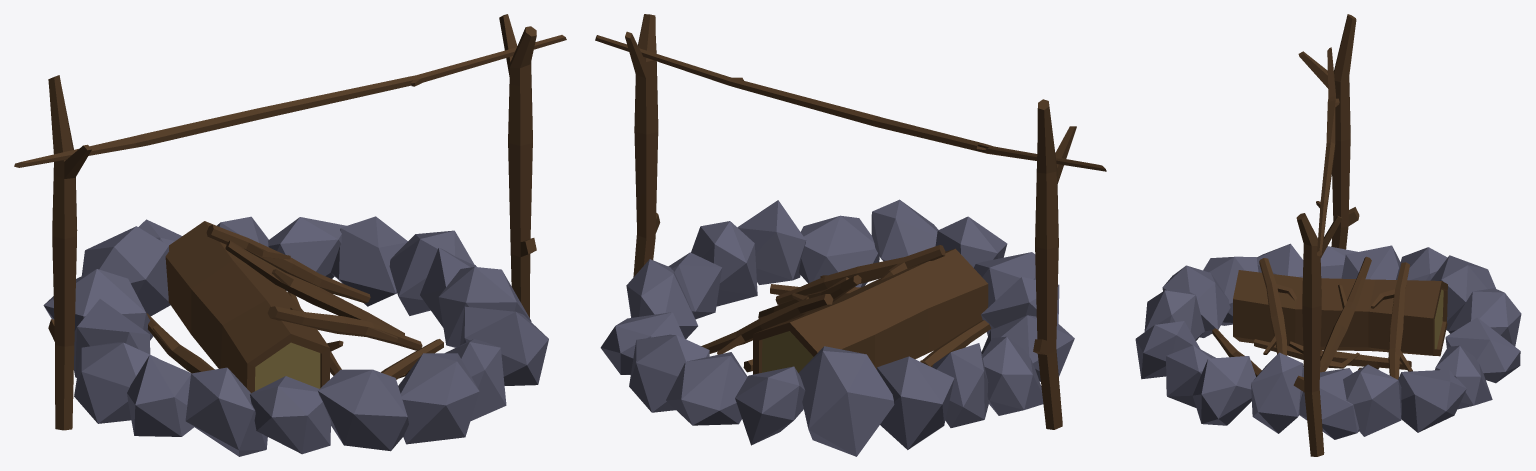
The model's file is campfire.glb.
3 renders of one model, left to right at view 1: azimuth 30°, elevation 25°; view 2: azimuth 150°, elevation 25°; view 3: azimuth 270°, elevation 25°, orthographic. The views are drawn at different scales.
Visible parts, largest first — view 1: Campfire; view 2: Campfire; view 3: Campfire.
Part boxes in pixels (x1,y1,x2,y2): Campfire: (14, 14, 566, 456); Campfire: (595, 14, 1106, 456); Campfire: (1135, 14, 1521, 456).
Size of the model in its own units: 1.31 by 0.8031 by 1.03.
